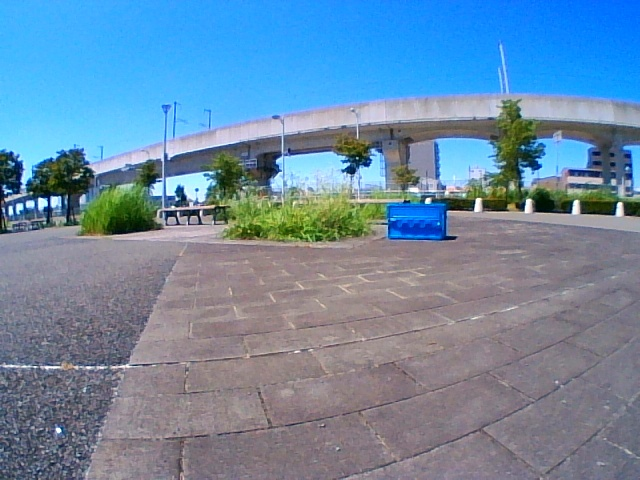blue_box: (389, 204, 445, 240)
tag: (442, 215, 444, 230)
